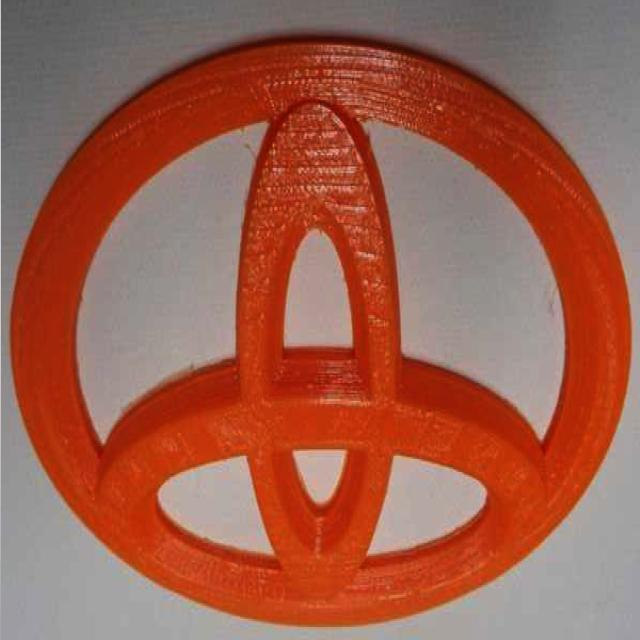toyota: (1, 0, 640, 640)
